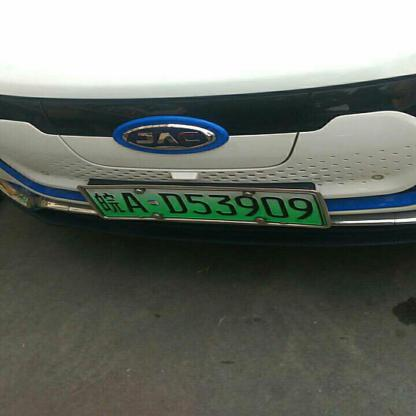lp: (84, 190, 325, 226)
